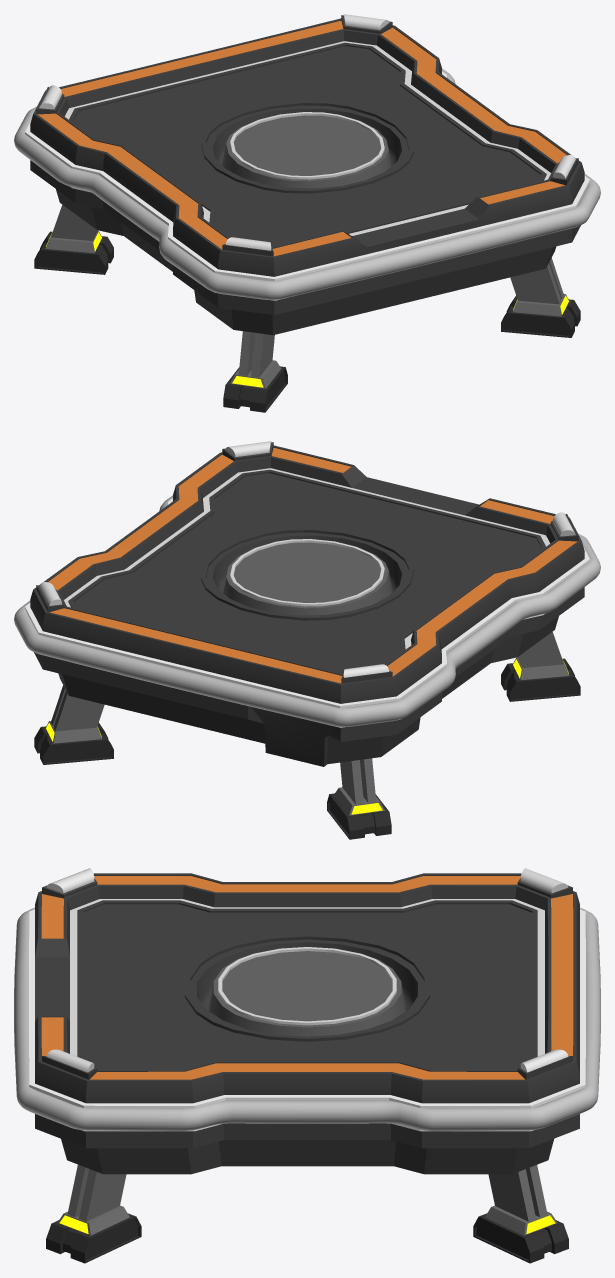
The model's file is launch pad rocket.fbx.
3 renders of one model, top to bottom at view 1: azimuth 30°, elevation 25°; view 2: azimuth 150°, elevation 25°; view 3: azimuth 270°, elevation 25°, orthographic. The views are drawn at different scales.
Parts seen in each view (by area): view 1: launch pad rocket; view 2: launch pad rocket; view 3: launch pad rocket.
Part boxes in pixels (<box>): launch pad rocket: <box>14,14,600,412</box>; launch pad rocket: <box>14,441,600,839</box>; launch pad rocket: <box>14,868,600,1263</box>.
Size of the model in its own units: 3486 by 1390 by 3808.
